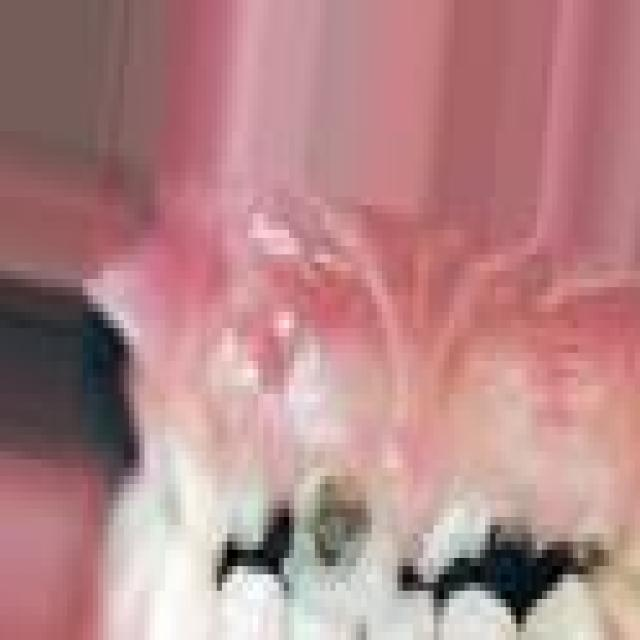caries: (212, 463, 286, 574), (304, 464, 376, 576), (422, 501, 492, 583), (500, 504, 563, 580), (560, 524, 622, 576)
